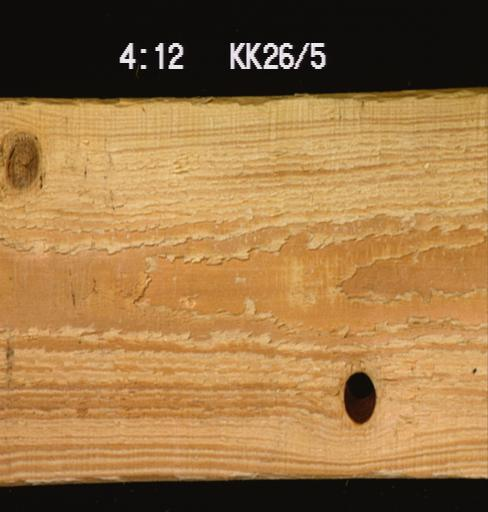sound_knot: (0, 128, 41, 195)
wave: (0, 87, 487, 118)
